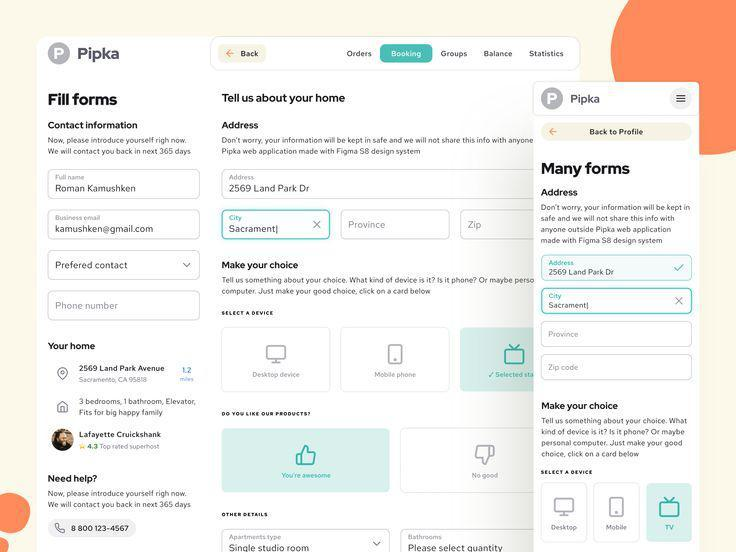button: (543, 124, 691, 143), (50, 519, 137, 539), (381, 45, 434, 63), (219, 46, 265, 63)
dropdown: (49, 251, 201, 280), (223, 530, 392, 552)
icon: (503, 342, 532, 369), (472, 440, 499, 465), (293, 445, 320, 469), (265, 342, 290, 366), (386, 343, 407, 367), (55, 365, 73, 384), (55, 400, 74, 417), (675, 94, 689, 106)
input: (223, 170, 534, 200), (49, 291, 201, 321), (48, 171, 201, 200), (49, 211, 202, 240), (543, 256, 693, 282), (542, 355, 692, 381), (542, 323, 693, 348), (543, 289, 693, 314), (342, 211, 451, 240), (223, 211, 331, 240), (402, 530, 534, 552), (462, 210, 534, 239)
label: (46, 490, 193, 513), (45, 137, 193, 157), (220, 90, 349, 107), (540, 161, 633, 177), (47, 93, 123, 109), (77, 45, 122, 63), (222, 262, 299, 272), (48, 122, 140, 130), (222, 411, 312, 419), (542, 403, 620, 412), (46, 341, 98, 353), (47, 474, 99, 486), (542, 470, 596, 478), (221, 121, 260, 131), (222, 311, 275, 318), (541, 190, 580, 198), (221, 512, 270, 518), (530, 51, 566, 59), (439, 50, 468, 59), (484, 51, 514, 59), (346, 51, 373, 59)
